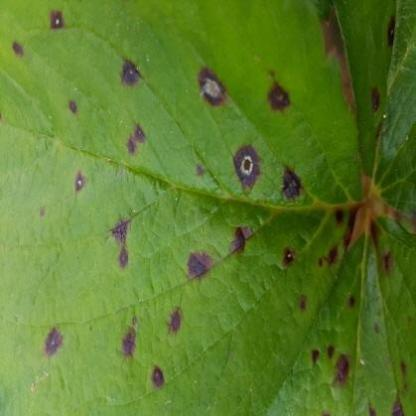Strawberry_Leaf_Spot: (0, 0, 364, 415), (261, 212, 415, 416), (332, 0, 416, 220)
